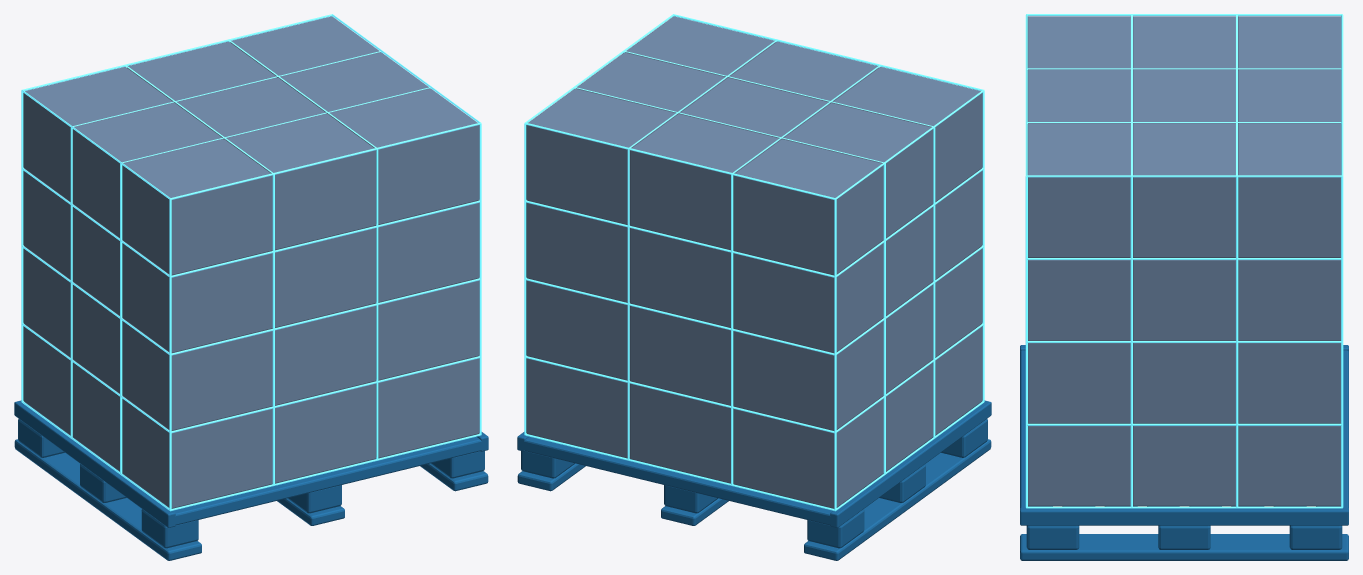
File: SM_Replay_CargoHigh.fbx
The picture shows the model from 3 angles, left to right: view 1: azimuth 30°, elevation 25°; view 2: azimuth 150°, elevation 25°; view 3: azimuth 270°, elevation 25°; orthographic projection. The views are drawn at different scales.
Visible parts, largest first — view 1: SM_Replay_CargoHigh; view 2: SM_Replay_CargoHigh; view 3: SM_Replay_CargoHigh.
Boxes of the visible parts, <box> form: SM_Replay_CargoHigh: <box>14,14,488,560</box>; SM_Replay_CargoHigh: <box>517,14,991,560</box>; SM_Replay_CargoHigh: <box>1020,14,1348,560</box>.
Bounding box in the file's own units: 120 × 100 × 129.
